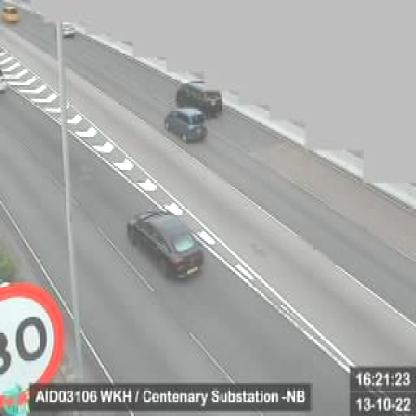Car: (131, 210, 206, 280), (179, 81, 222, 117), (165, 105, 207, 141), (2, 2, 21, 22), (56, 22, 78, 38)
